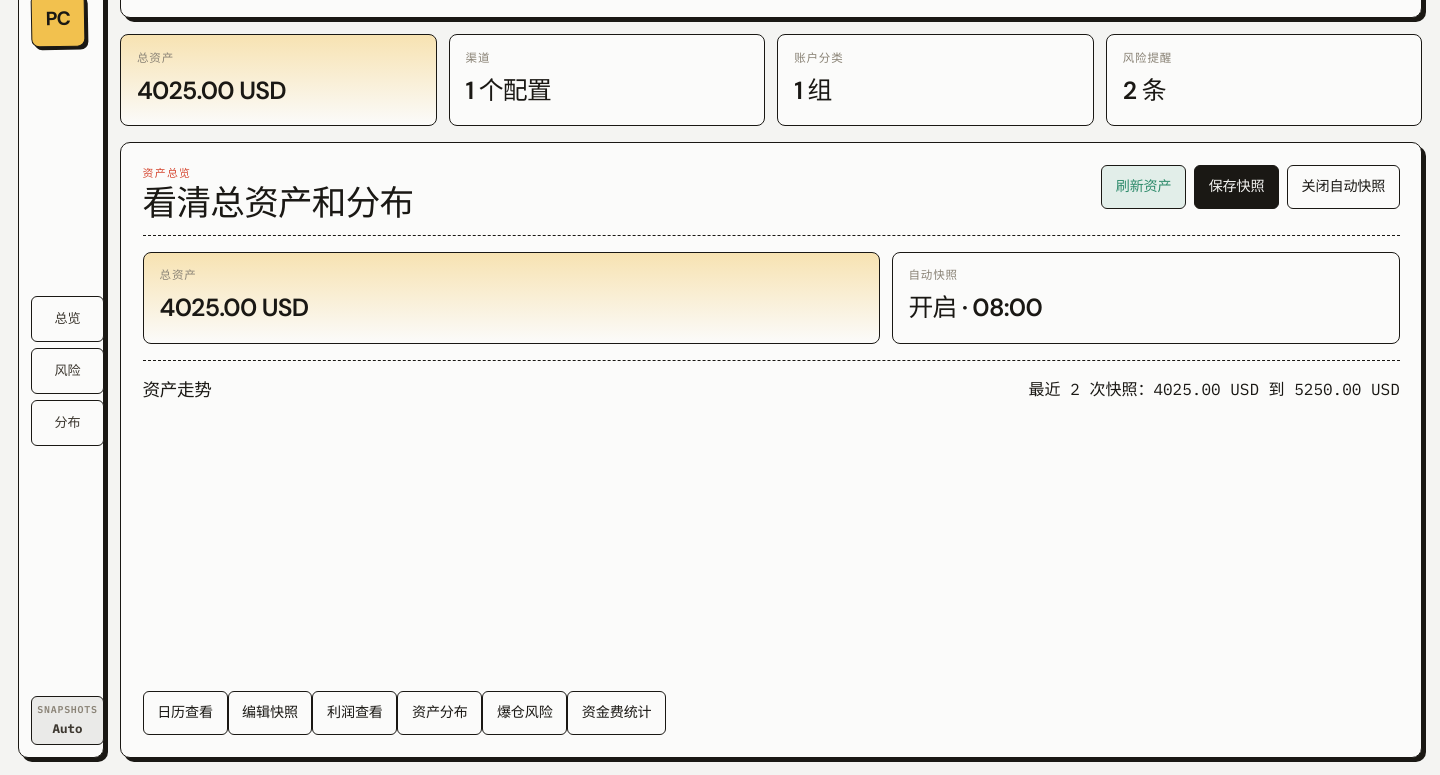
Test: shows recent seven day funding fee totals
(page scrolled)
Click the button "资金费统计". click: (617, 713)
box: [567,691,666,735]
(page scrolled)
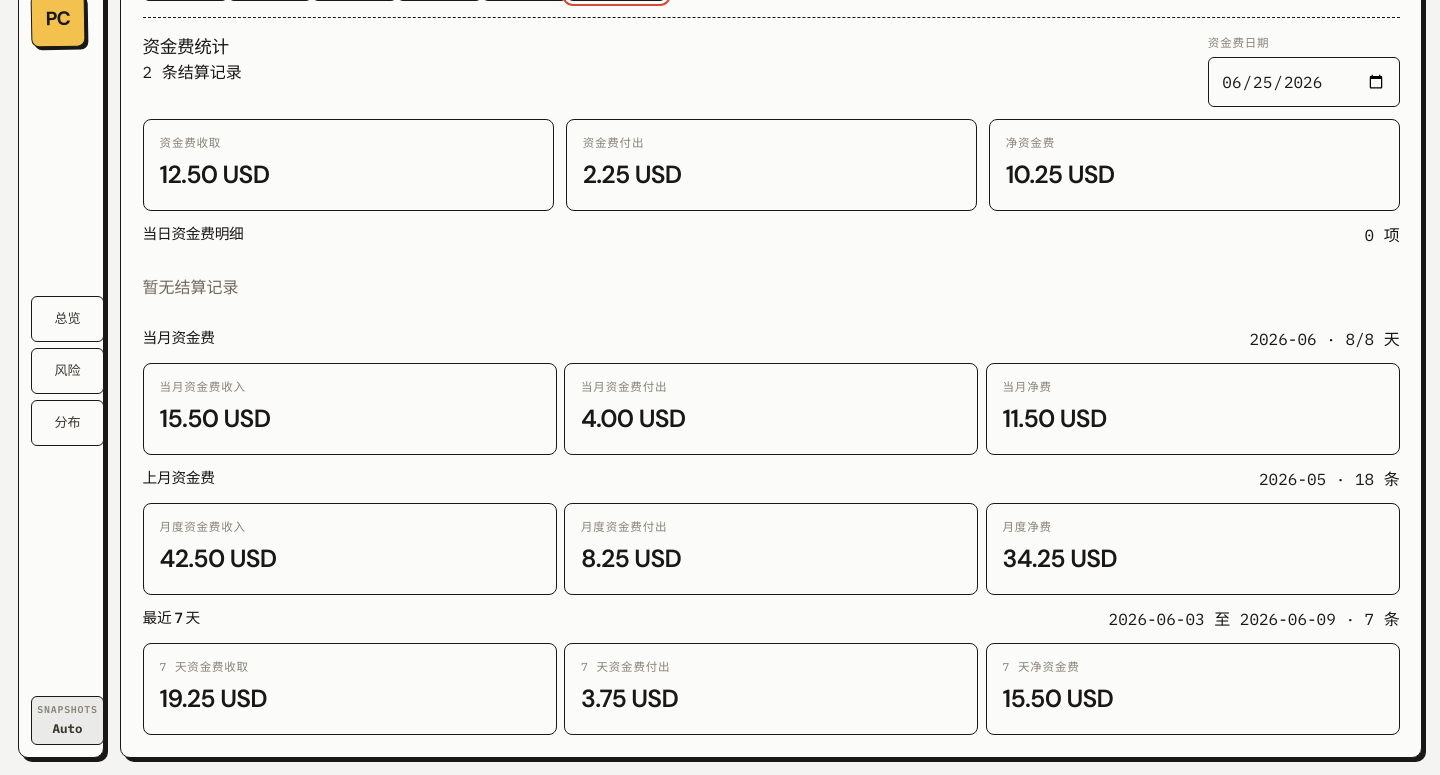
Expected: the element labelled "资金费统计" is shown
Expected: the heading "当月资金费" is shown, [143,327,215,349]
Expected: the text "2026-06 · 8/8 天" is shown, [1249,327,1400,351]
